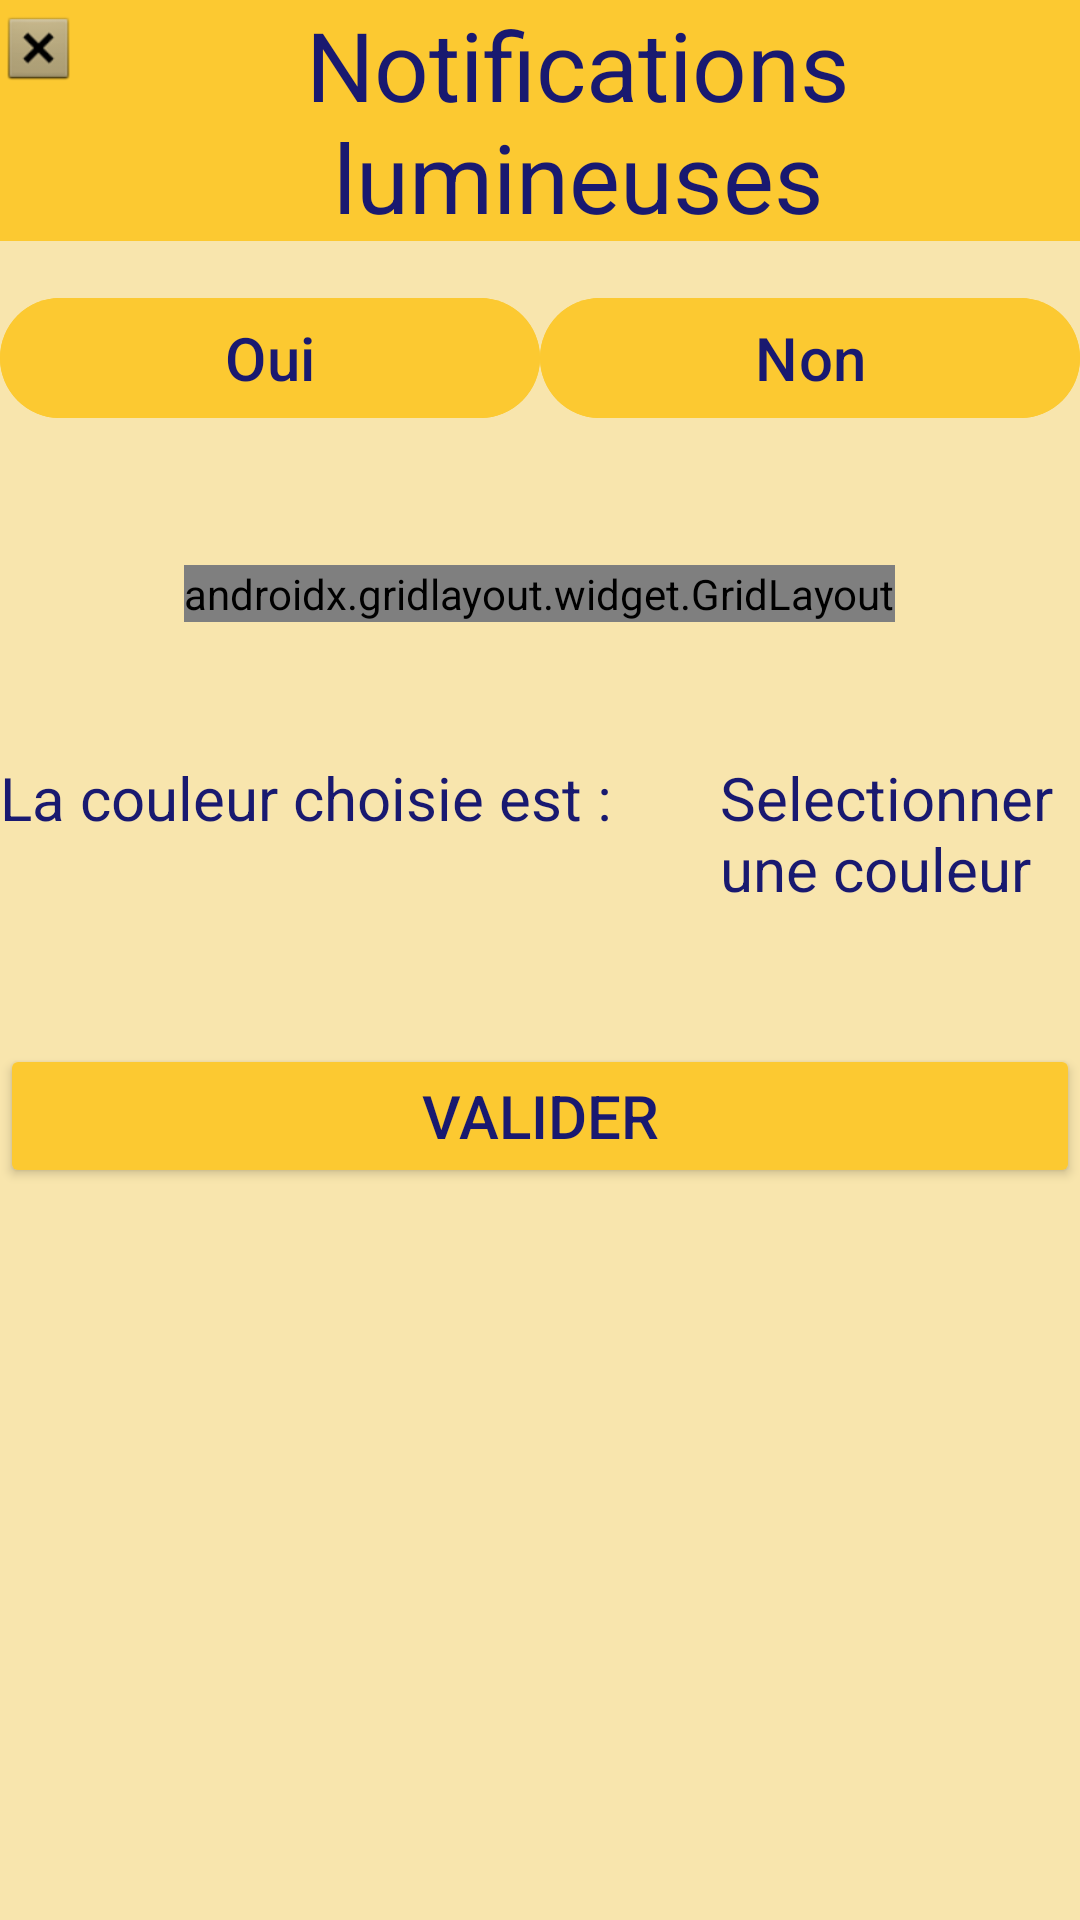

Icon bounding boxes for this 1080×1920 phone screenshot, format (x1, y1, x2, y2):
Retour à la page précédente: (7, 18, 70, 80)
